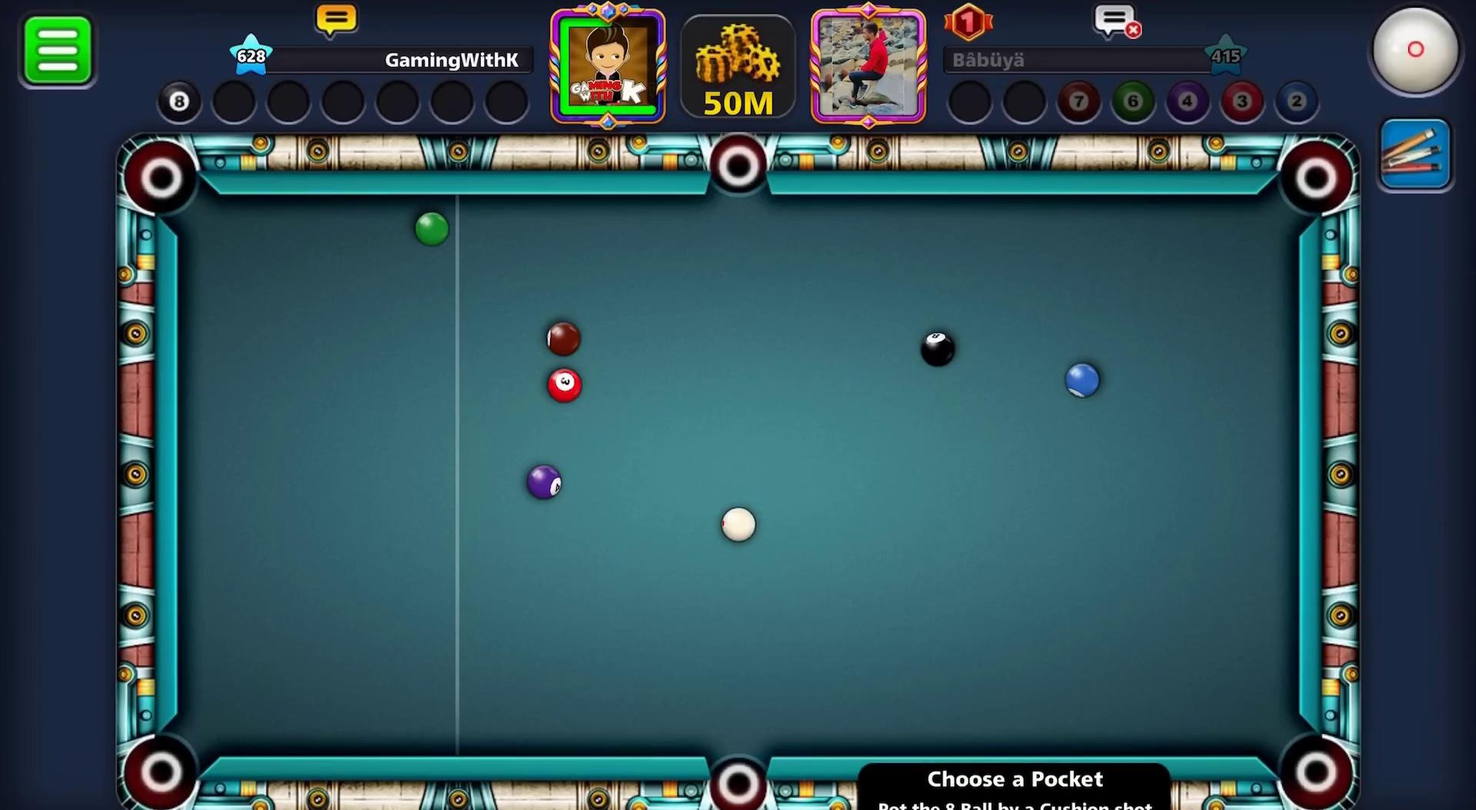Ball: (533, 355, 593, 412), (516, 455, 572, 509), (532, 315, 585, 363), (1061, 359, 1105, 408), (916, 329, 961, 372), (406, 210, 448, 249)
Hole: (106, 711, 223, 809), (108, 125, 208, 226), (1260, 712, 1363, 809), (681, 715, 780, 809), (1270, 127, 1361, 227), (700, 119, 789, 218)
Play_Area: (182, 195, 1298, 759)
Spin: (1363, 0, 1475, 109)
White: (715, 502, 761, 549)
